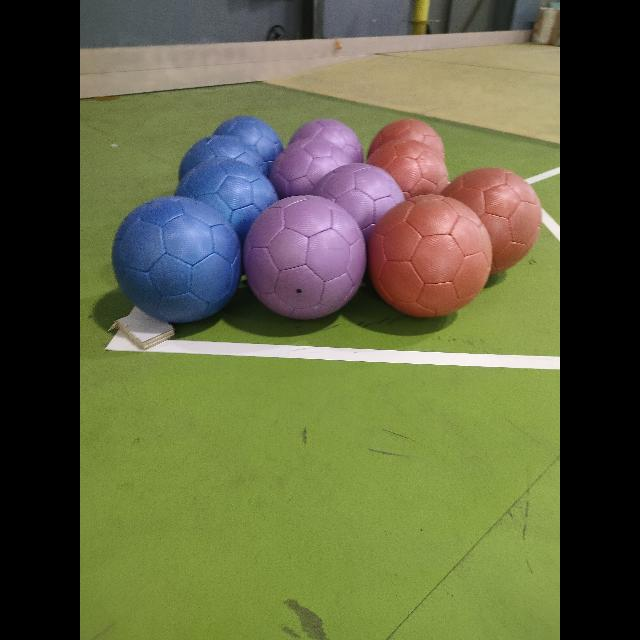B: (112, 195, 242, 322), (175, 162, 275, 248), (213, 116, 283, 176)
P: (244, 195, 366, 319), (310, 162, 402, 242), (270, 141, 356, 197)
R: (368, 195, 492, 317), (440, 164, 540, 274), (368, 140, 448, 200)
